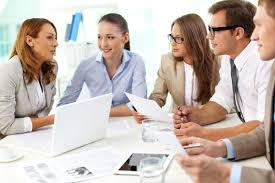Person: (176, 1, 275, 183), (173, 1, 275, 143), (134, 13, 221, 124), (56, 13, 148, 117), (1, 18, 55, 136)
